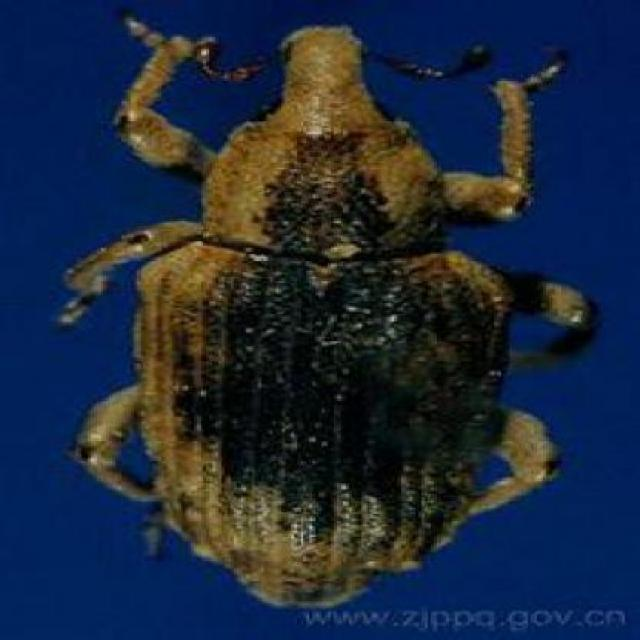rice-bug: (48, 12, 592, 600)
